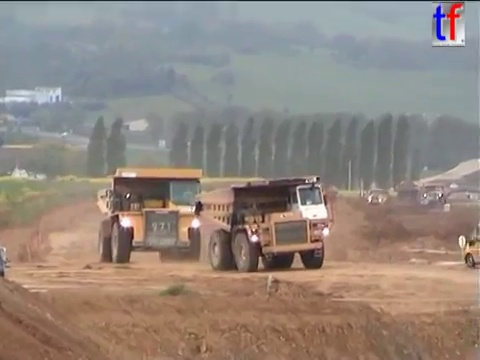truck: (193, 174, 333, 273), (94, 165, 205, 264), (421, 182, 449, 206), (394, 178, 419, 201), (365, 187, 391, 206), (1, 245, 12, 279)
